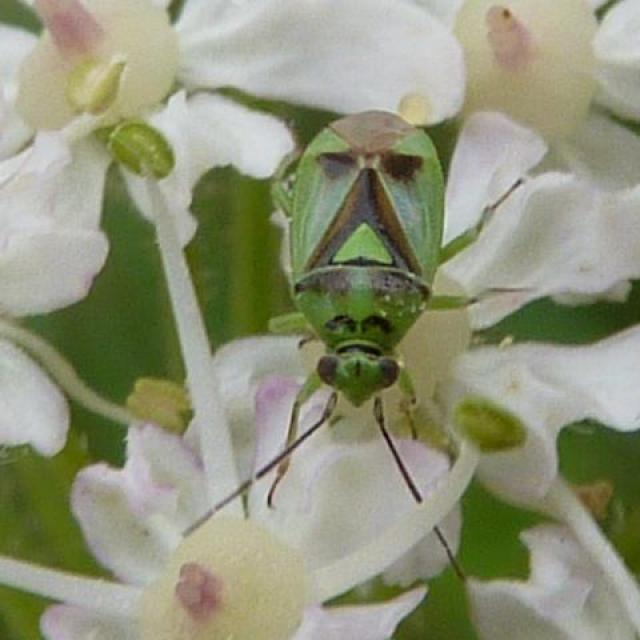Miridae-Adult-: (164, 94, 485, 587)
